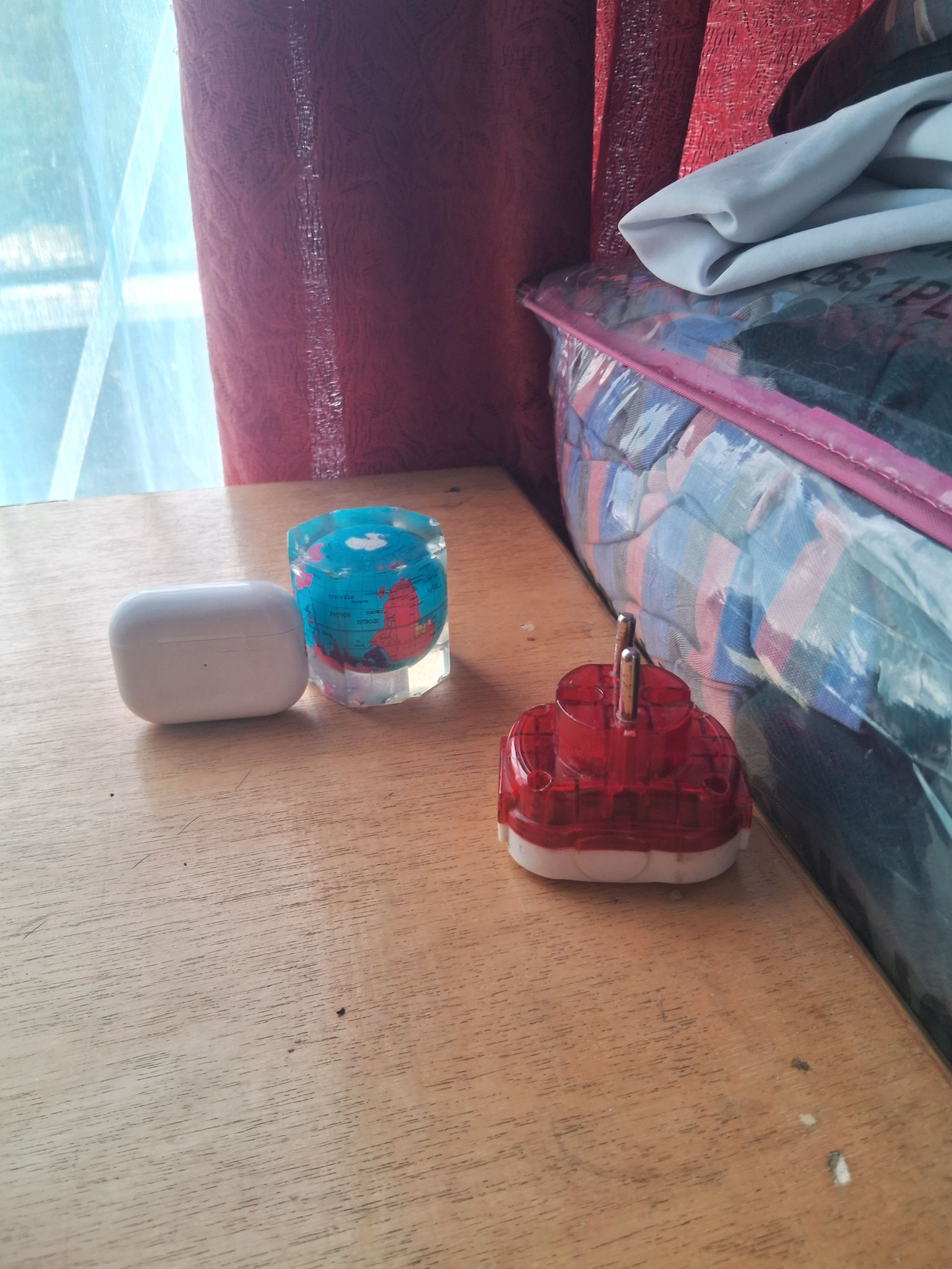Air_pod: (105, 580, 310, 729)
Multi_adapter: (495, 606, 759, 888)
world_globe: (286, 497, 456, 718)
